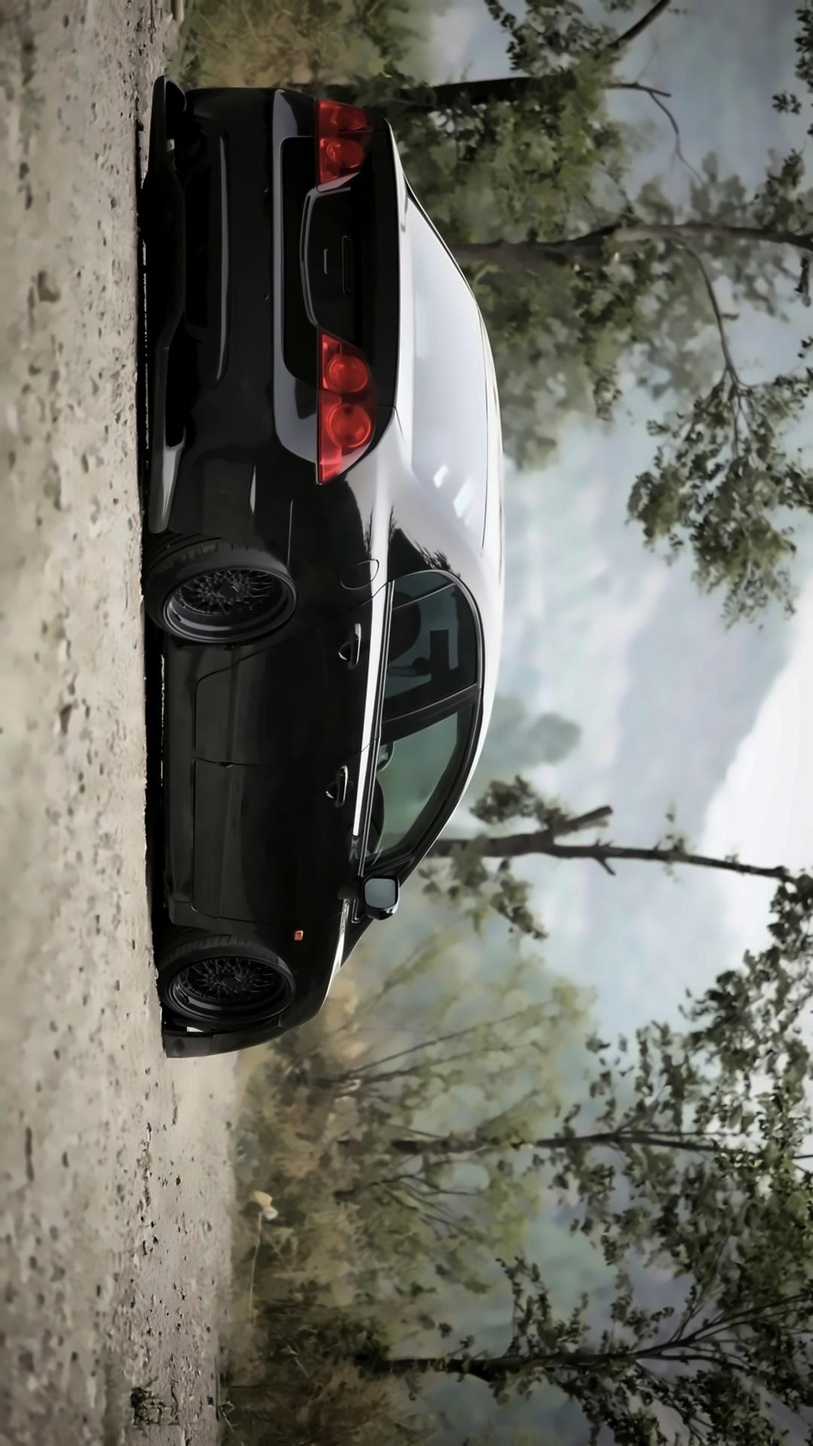Car boot: (266, 61, 415, 519)
Driver-s door - -F-R-: (136, 696, 517, 923)
Fender - -F-R-: (158, 913, 353, 1048)
Fender - -R-R-: (164, 502, 495, 638)
Passenger-s door - -R-R-: (143, 565, 502, 747)
Rear bumper: (123, 58, 344, 542)
Rear light - -L-: (294, 74, 373, 207)
Rear light - -R-: (309, 329, 386, 499)
Side bumper - -R-: (137, 633, 239, 954)
Side mirror - -R-: (352, 854, 404, 928)
